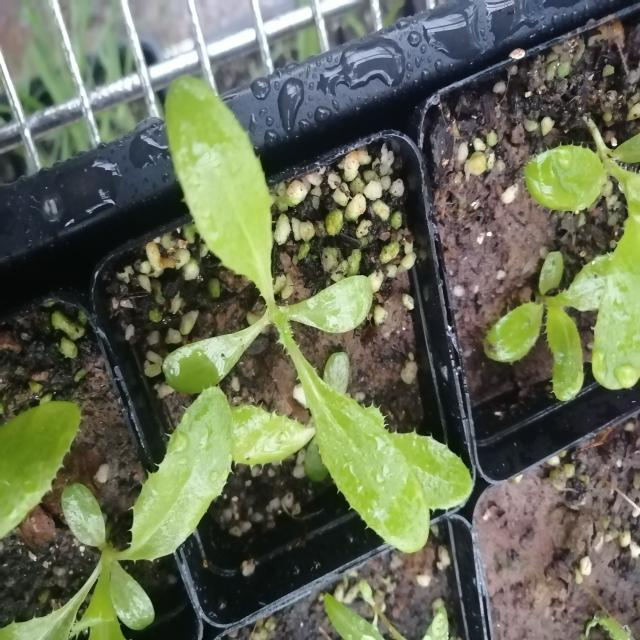field_thistle: (151, 65, 467, 550)
